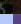tungsten: (0, 0, 13, 14)
